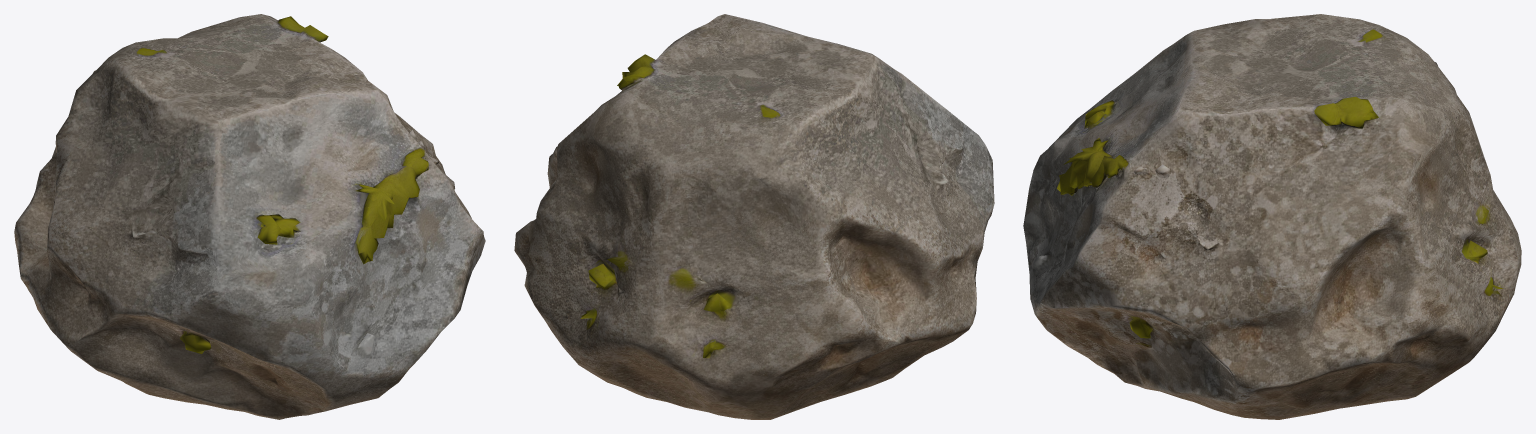
Rendered from ammo-rock.glb.
3 renders of one model, left to right at view 1: azimuth 30°, elevation 25°; view 2: azimuth 150°, elevation 25°; view 3: azimuth 270°, elevation 25°, orthographic. The views are drawn at different scales.
Visible parts, largest first — view 1: tripo_node_3685e470-1e1a-4a55-93d4-4b6daa679cee; view 2: tripo_node_3685e470-1e1a-4a55-93d4-4b6daa679cee; view 3: tripo_node_3685e470-1e1a-4a55-93d4-4b6daa679cee.
Boxes of the visible parts, left/top/right/bottom form: tripo_node_3685e470-1e1a-4a55-93d4-4b6daa679cee: left=14, top=14, right=485, bottom=419; tripo_node_3685e470-1e1a-4a55-93d4-4b6daa679cee: left=514, top=14, right=994, bottom=419; tripo_node_3685e470-1e1a-4a55-93d4-4b6daa679cee: left=1023, top=14, right=1521, bottom=419.
Size of the model in its own units: 0.9447 by 0.6563 by 0.9792.
Materials: 1 (1 with a texture image).
